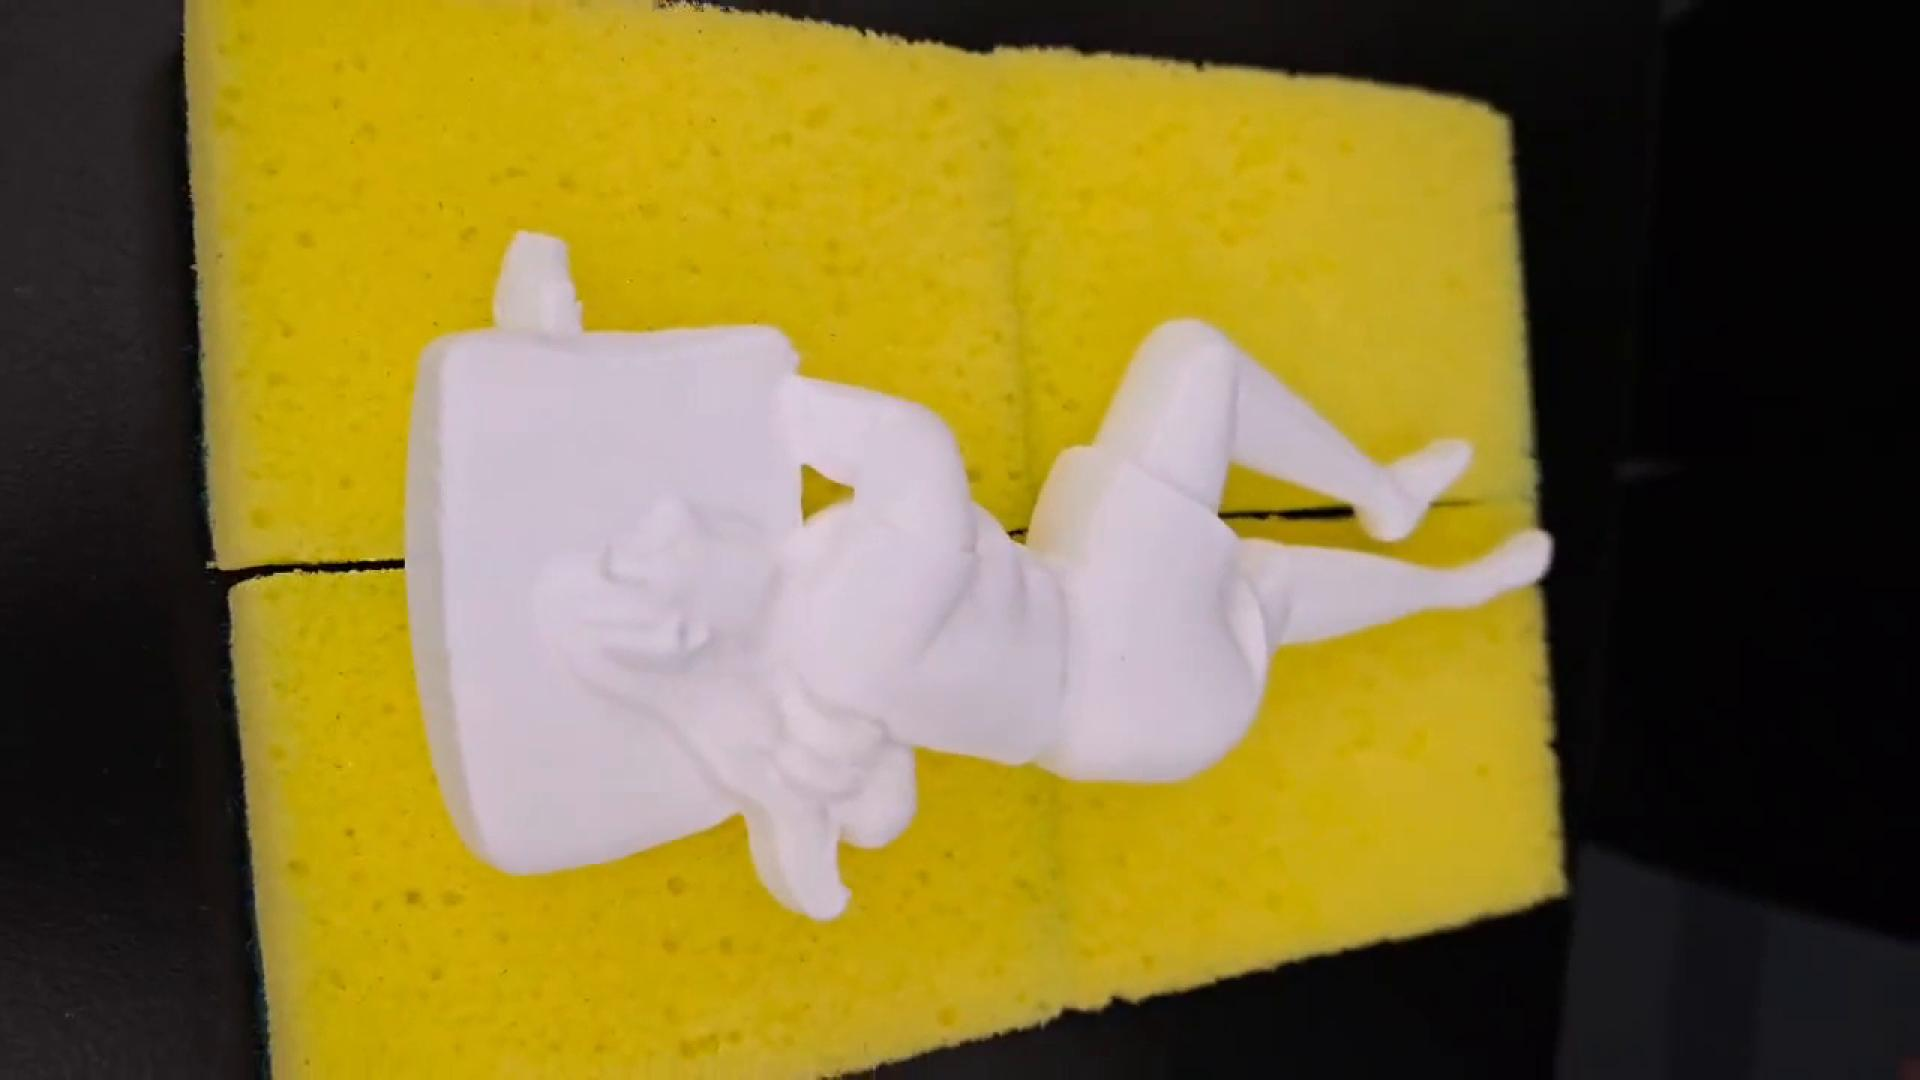Good-style: (402, 227, 1557, 932)
